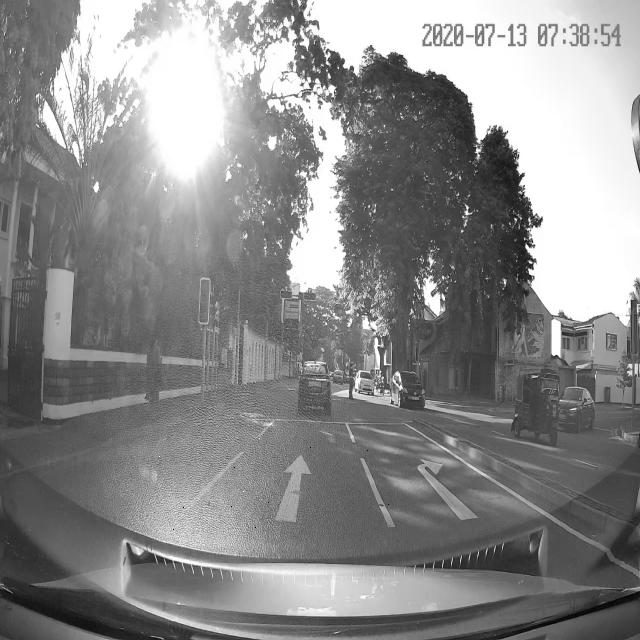diamond: (158, 437, 396, 543)
